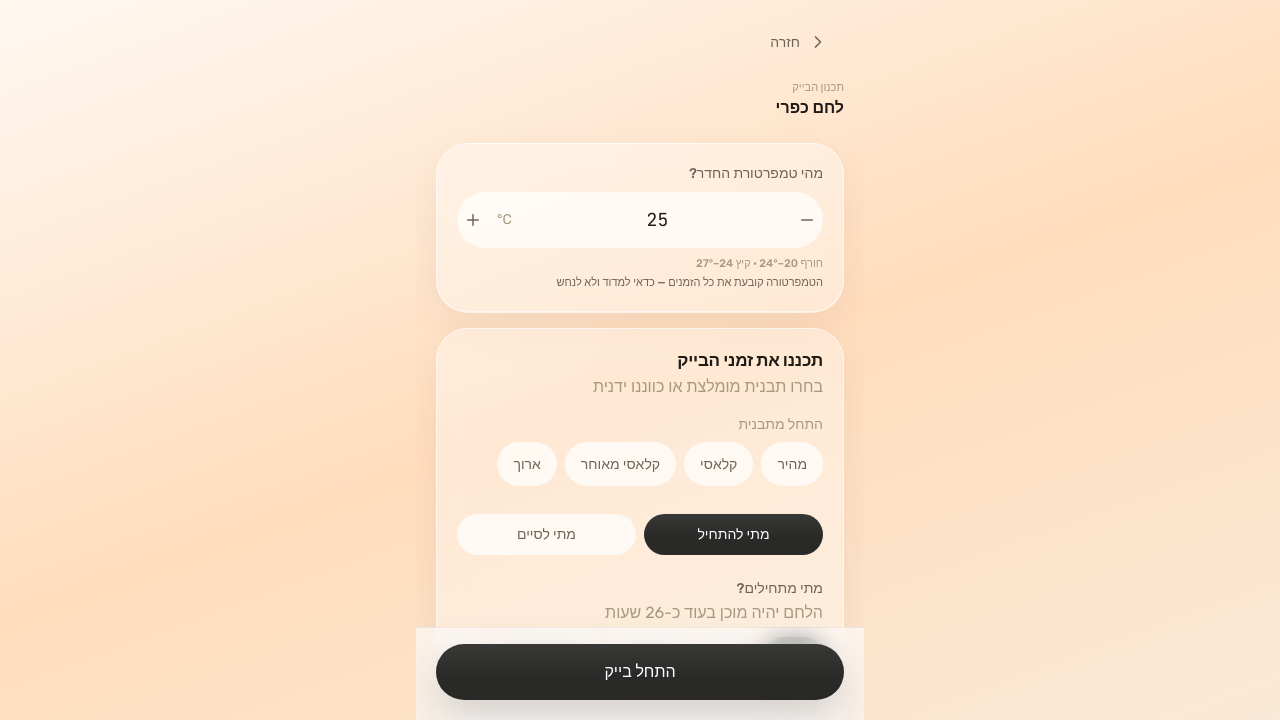
Test: BakePlannerScreen — manual-first › selecting a preset forces 'מתי לסיים' direction
Click the radio button labelled "קלאסי" at (719, 464), box [684, 442, 753, 486]
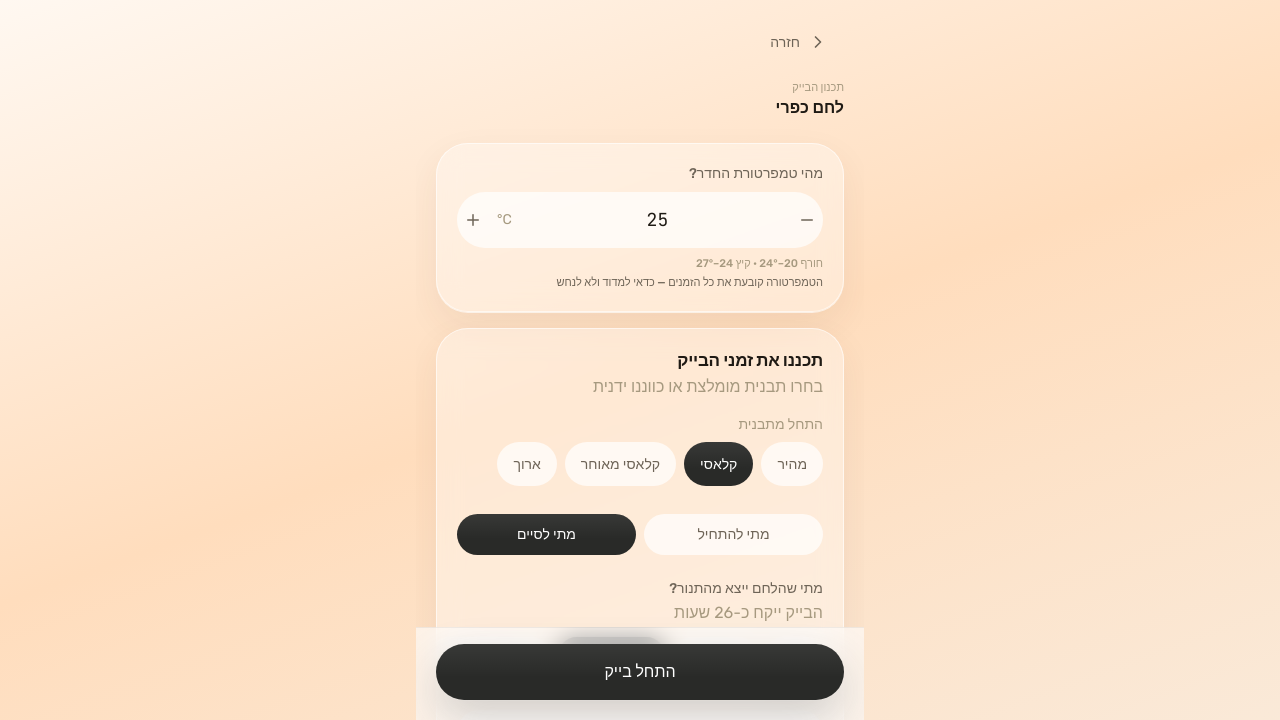
Check: the text "מתי שהלחם ייצא מהתנור?" is shown, box [669, 580, 823, 598]
